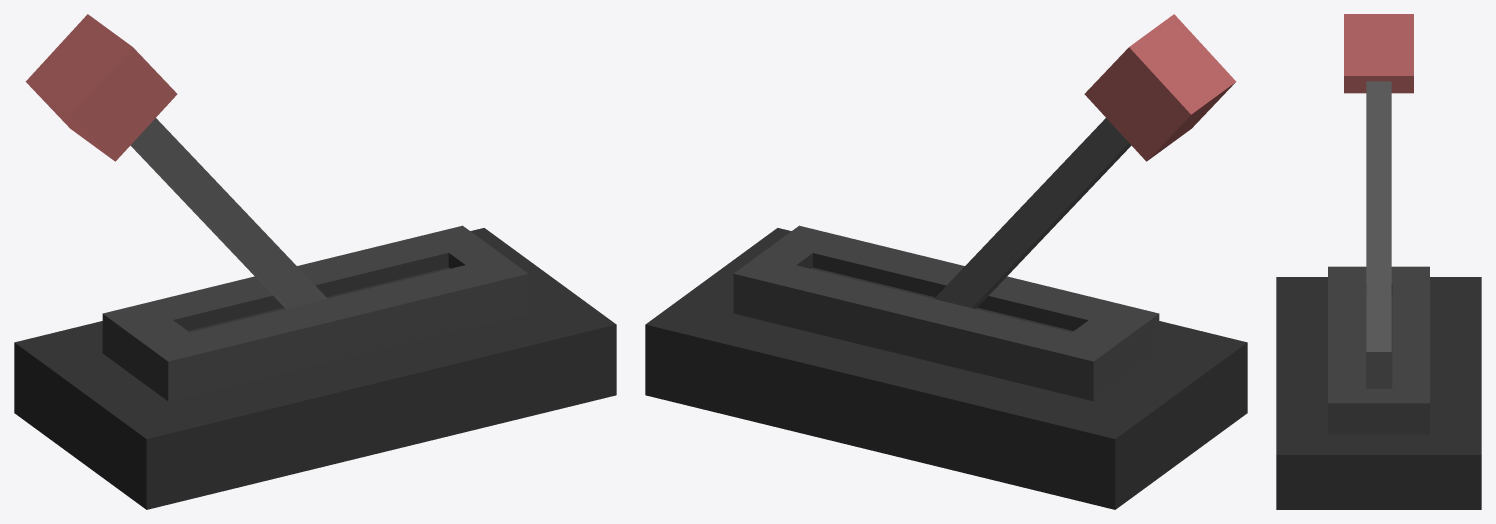
File: lever left.fbx
3 renders of one model, left to right at view 1: azimuth 30°, elevation 25°; view 2: azimuth 150°, elevation 25°; view 3: azimuth 270°, elevation 25°, orthographic. The views are drawn at different scales.
Parts seen in each view (by area): view 1: pCube7, polySurface3; view 2: pCube7, polySurface3; view 3: pCube7, polySurface3.
Part boxes in pixels (x1,y1,x2,y2): pCube7: [14, 225, 616, 509]; polySurface3: [25, 14, 327, 308]; pCube7: [645, 225, 1247, 509]; polySurface3: [934, 14, 1236, 308]; pCube7: [1276, 266, 1481, 509]; polySurface3: [1344, 14, 1413, 351].
Bounding box in the file's own units: 1.84 × 1.48 × 0.8379.
